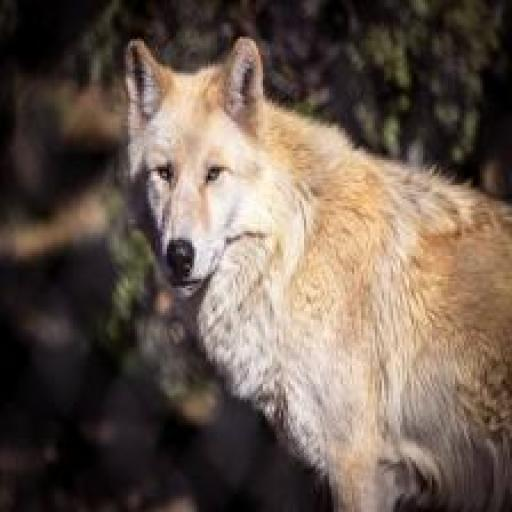wolf: (112, 18, 510, 512)
